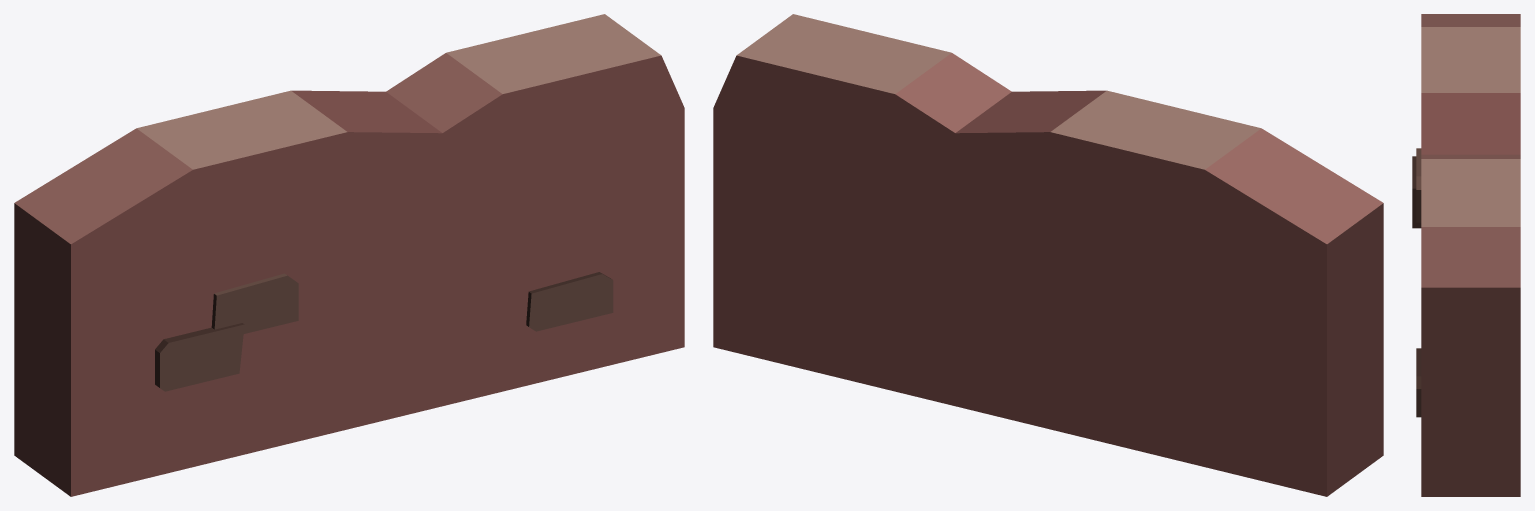
Rendered from TB_D_Bd_Fence_Dirt_Red_B.FBX.
The picture shows the model from 3 angles, left to right: view 1: azimuth 30°, elevation 25°; view 2: azimuth 150°, elevation 25°; view 3: azimuth 270°, elevation 25°; orthographic projection. The views are drawn at different scales.
Visible parts, largest first — view 1: TB_D_Bd_Fence_Dirt_Red_B; view 2: TB_D_Bd_Fence_Dirt_Red_B; view 3: TB_D_Bd_Fence_Dirt_Red_B.
Boxes of the visible parts, box(x1,y1,x2,y2) form: TB_D_Bd_Fence_Dirt_Red_B: box(14, 14, 684, 496); TB_D_Bd_Fence_Dirt_Red_B: box(713, 14, 1383, 496); TB_D_Bd_Fence_Dirt_Red_B: box(1412, 14, 1520, 496).
Bounding box in the file's own units: 2.5 × 1.16 × 0.4358.
